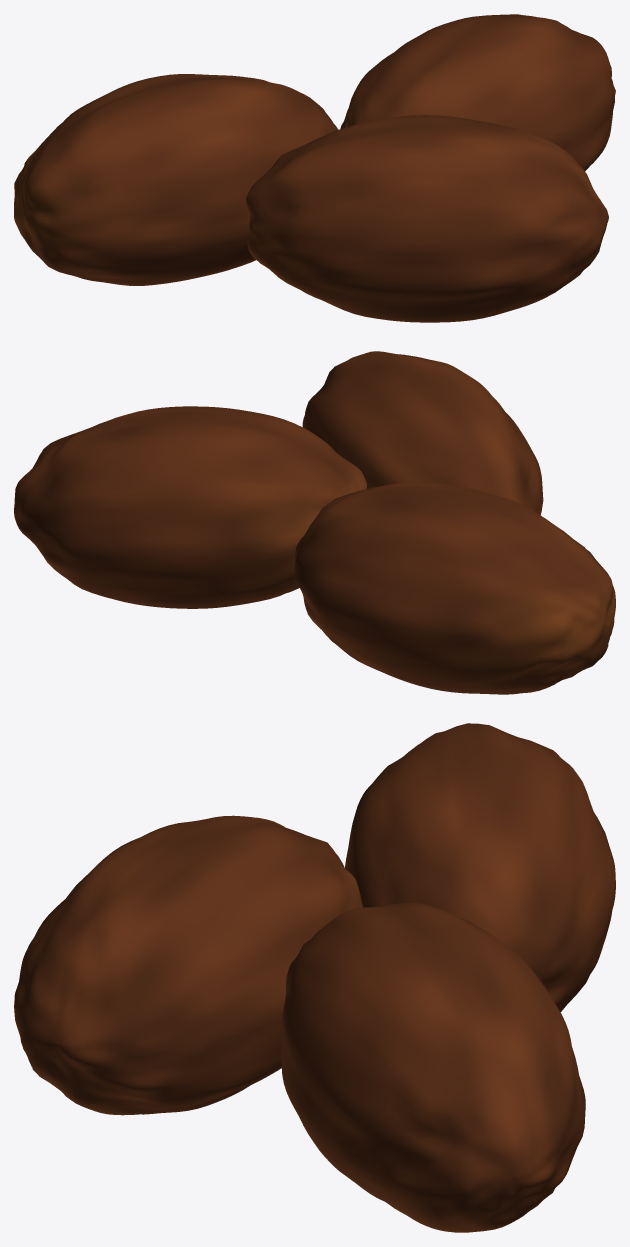
File: dates.glb
3 views of the same model, one above another, from view 1: azimuth 30°, elevation 25°; view 2: azimuth 150°, elevation 25°; view 3: azimuth 270°, elevation 25° (orthographic). The views are drawn at different scales.
Parts seen in each view (by area): view 1: Dates; view 2: Dates; view 3: Dates.
Part boxes in pixels (x1=…): Dates: x1=14, y1=14, x2=615, y2=322; Dates: x1=14, y1=351, x2=615, y2=694; Dates: x1=14, y1=723, x2=615, y2=1232.
Size of the model in its own units: 0.1874 by 0.0587 by 0.1264.
